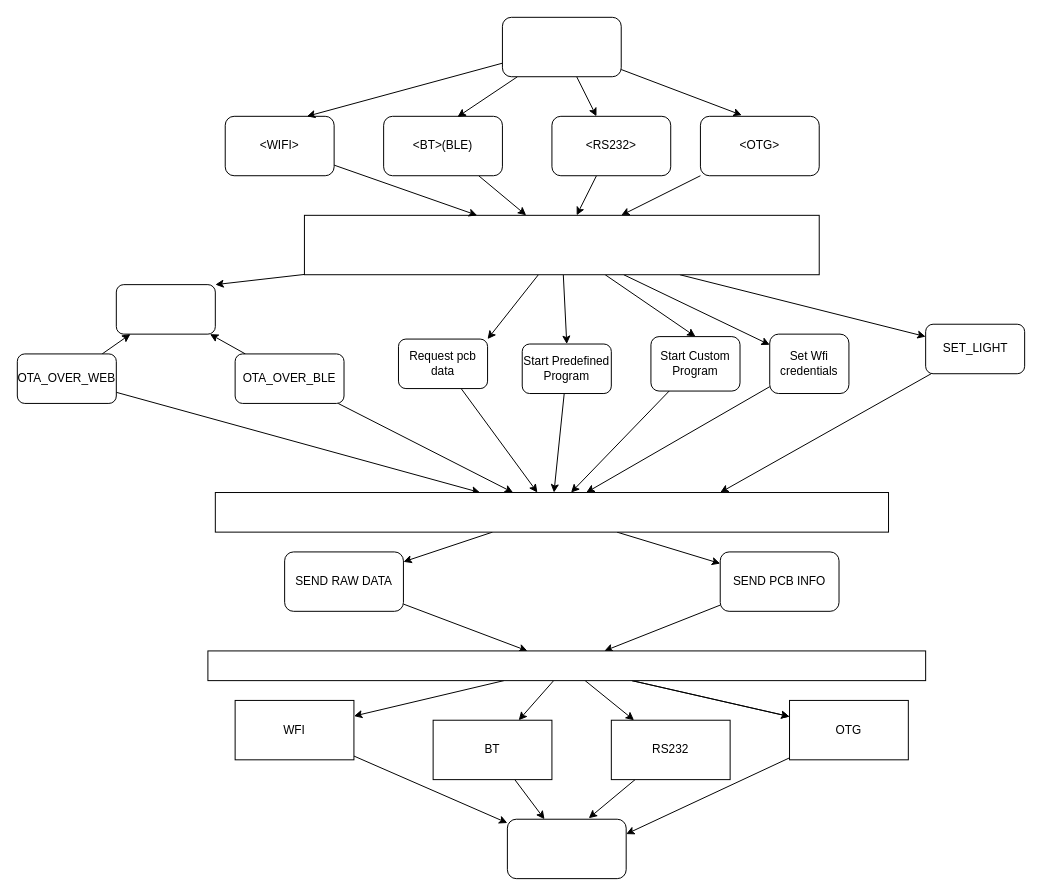
The diagram is 1042 pixels wide and 896 high, and some of its shapes have lost their labels. Each missing label, with the centre of its shape:
"ACP" goes at (x=566, y=848).
"ACP TO PCB" goes at (x=561, y=46).
"channel" goes at (x=566, y=665).
"OTA UPDATE" goes at (x=165, y=309).
"process_cmd" goes at (x=561, y=244).
"Response cmd" goes at (x=551, y=512).
